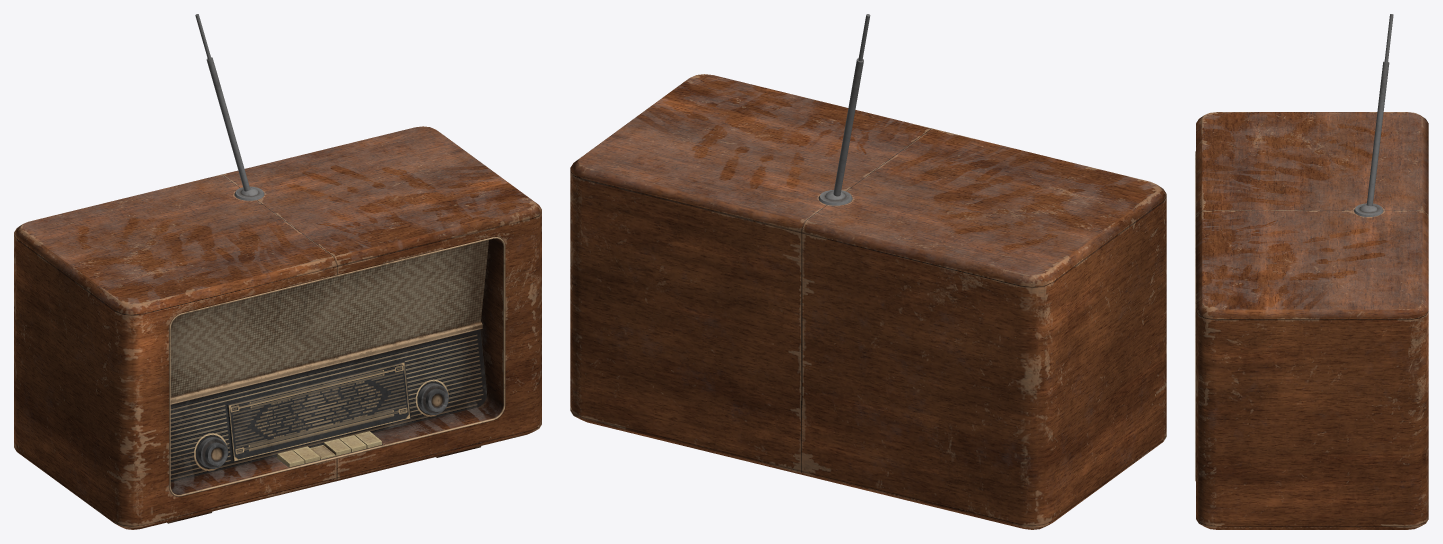
The model's file is vintage_german_radio.glb.
The picture shows the model from 3 angles, left to right: view 1: azimuth 30°, elevation 25°; view 2: azimuth 150°, elevation 25°; view 3: azimuth 270°, elevation 25°; orthographic projection. The views are drawn at different scales.
Parts seen in each view (by area): view 1: Cube.003; view 2: Cube.003; view 3: Cube.003.
Part boxes in pixels (box(x1,y1,x2,y2)): Cube.003: box(14, 14, 541, 529); Cube.003: box(570, 14, 1166, 529); Cube.003: box(1195, 14, 1428, 529).
Size of the model in its own units: 62.71 by 58.92 by 30.48.
1 material, 1 textured.
